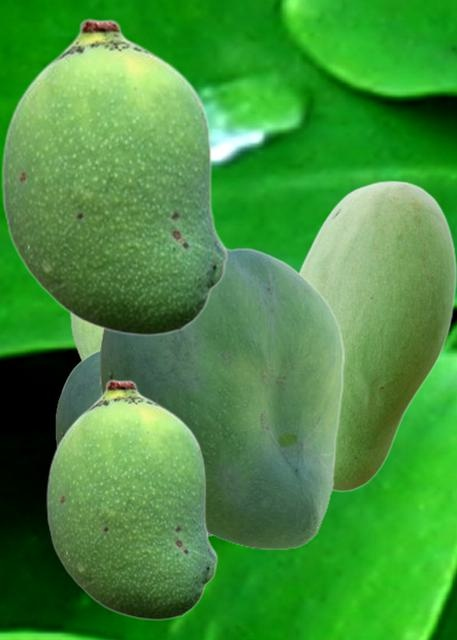green_mango: (99, 244, 343, 549), (1, 18, 227, 336), (299, 180, 455, 491), (46, 379, 217, 620), (55, 348, 209, 537), (70, 316, 101, 360)
